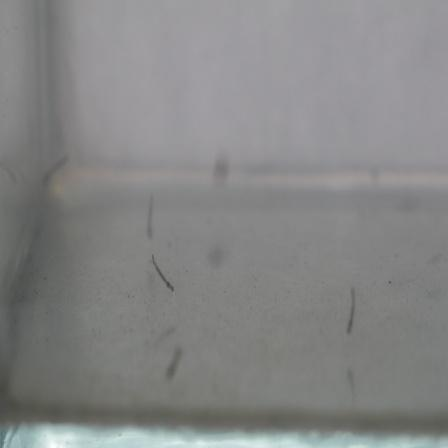Jentik-Nyamuk: (147, 249, 182, 294), (341, 282, 362, 337)
